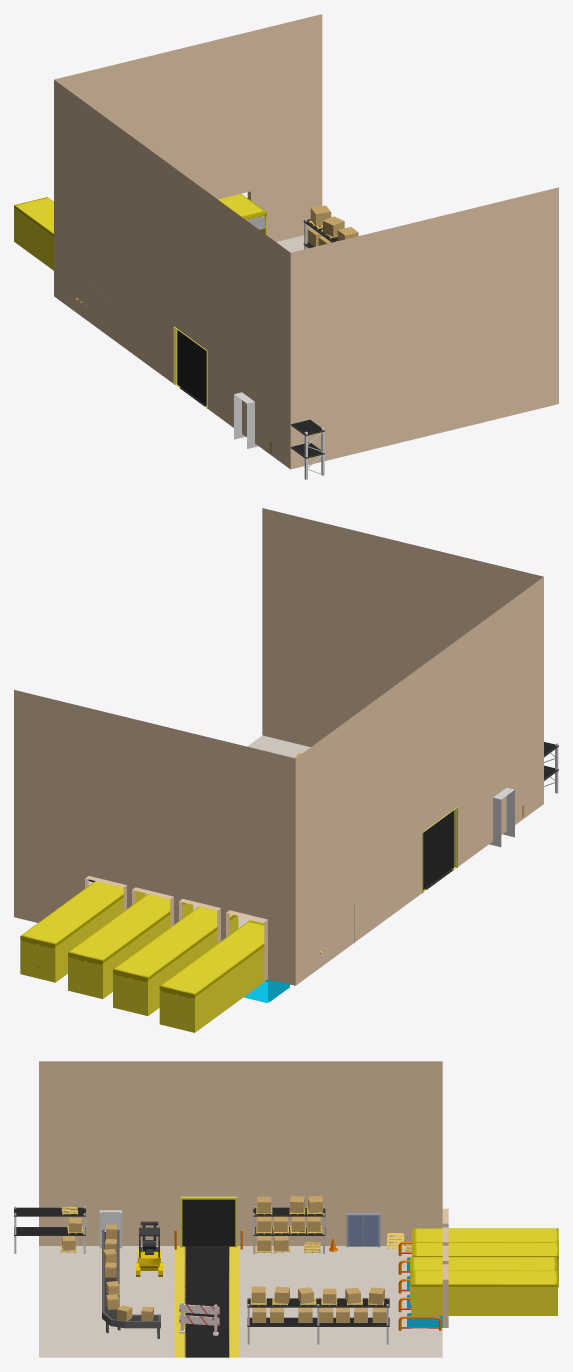
Rendered from Wall22.fbx.
3 views of the same model, one above another, from view 1: azimuth 30°, elevation 25°; view 2: azimuth 150°, elevation 25°; view 3: azimuth 270°, elevation 25° (orthographic). The views are drawn at different scales.
Parts seen in each view (by area): view 1: Room, Truck.001, GarageDoor, Box.003, ConveyorEnd.001, Platform.002; view 2: Room, Truck.001, GarageDoor, ConveyorEnd.001; view 3: Room, Truck.001, GarageDoor, Shelf.001, Platform.001, Box.003, Cube.001, Conveyor.001, GarageDoor.001, Platform.002, Cube_12_2_2, Shelf (+8 smaller).
Boxes of the visible parts, bbox=[...] form: Room: bbox=[54, 14, 558, 469]; Truck.001: bbox=[14, 194, 266, 270]; GarageDoor: bbox=[173, 326, 207, 408]; Box.003: bbox=[310, 205, 358, 240]; ConveyorEnd.001: bbox=[234, 392, 258, 448]; Platform.002: bbox=[291, 419, 324, 458]; Room: bbox=[14, 508, 543, 1003]; Truck.001: bbox=[20, 881, 267, 1032]; GarageDoor: bbox=[422, 807, 457, 893]; ConveyorEnd.001: bbox=[489, 787, 514, 847]; Room: bbox=[39, 1061, 448, 1357]; Truck.001: bbox=[409, 1228, 558, 1319]; GarageDoor: bbox=[180, 1196, 236, 1247]; Shelf.001: bbox=[252, 1307, 386, 1322]; Platform.001: bbox=[247, 1298, 389, 1326]; Box.003: bbox=[251, 1286, 384, 1304]; Cube.001: bbox=[103, 1224, 153, 1320]; Conveyor.001: bbox=[102, 1230, 160, 1328]; GarageDoor.001: bbox=[346, 1213, 380, 1247]; Platform.002: bbox=[14, 1207, 85, 1235]; Cube_12_2_2: bbox=[136, 1221, 162, 1276]; Shelf: bbox=[257, 1216, 320, 1232].
Size of the model in its own units: 306 by 254 by 613.
